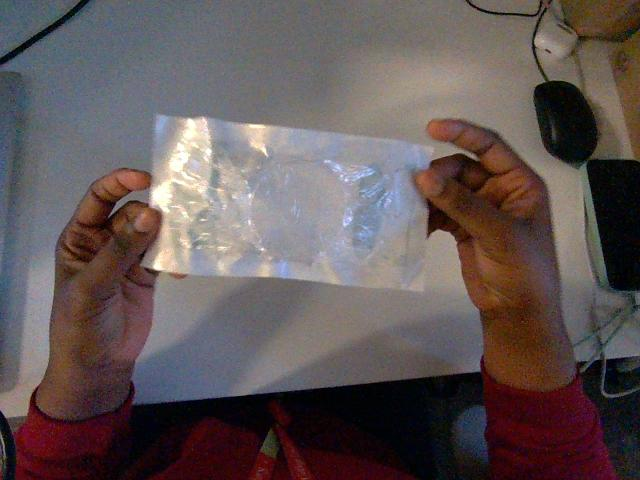gallipot: (143, 116, 431, 289)
